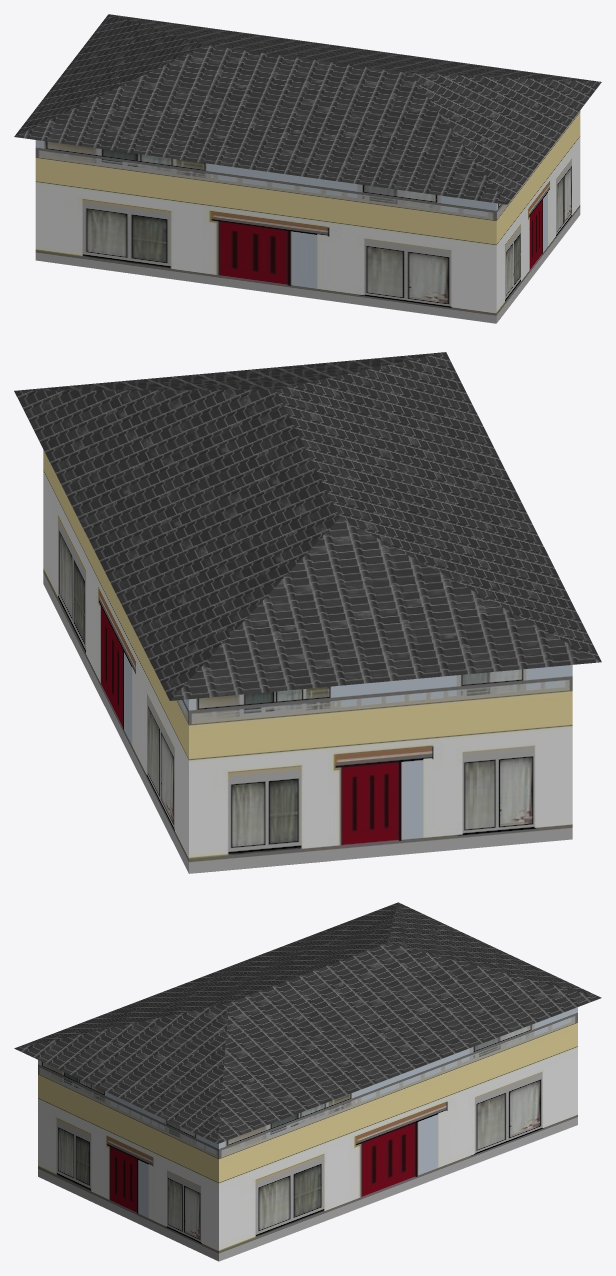
3 views of the same model, one above another, from view 1: azimuth 30°, elevation 25°; view 2: azimuth 150°, elevation 25°; view 3: azimuth 270°, elevation 25° (orthographic). The views are drawn at different scales.
Parts seen in each view (by area): view 1: CityEngineMaterial_16_m, CityEngineMaterial_15_m; view 2: CityEngineMaterial_16_m, CityEngineMaterial_15_m; view 3: CityEngineMaterial_16_m, CityEngineMaterial_15_m.
Boxes of the visible parts, left/top/right/bottom form: CityEngineMaterial_16_m: left=14, top=14, right=601, bottom=204; CityEngineMaterial_15_m: left=35, top=110, right=580, bottom=323; CityEngineMaterial_16_m: left=14, top=352, right=601, bottom=700; CityEngineMaterial_15_m: left=43, top=450, right=572, bottom=873; CityEngineMaterial_16_m: left=14, top=902, right=601, bottom=1143; CityEngineMaterial_15_m: left=38, top=1007, right=577, bottom=1261.
Size of the model in its own units: 31.48 by 10.8 by 32.35.
